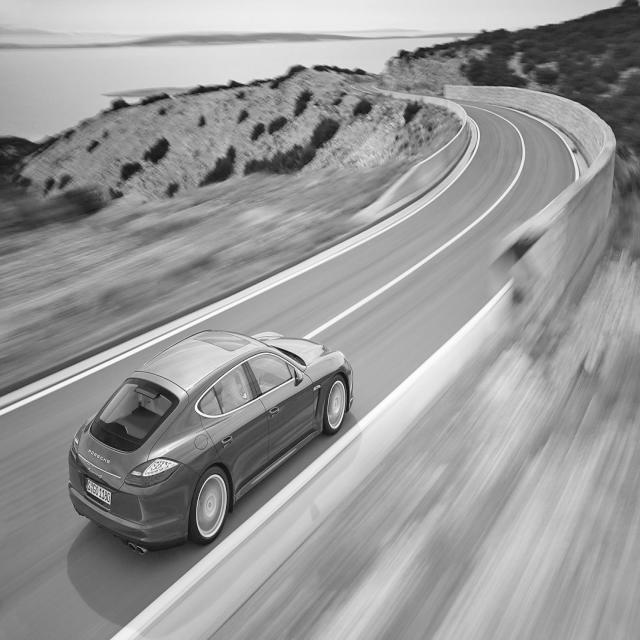car: (67, 328, 354, 554)
plat_license: (85, 478, 112, 506)
